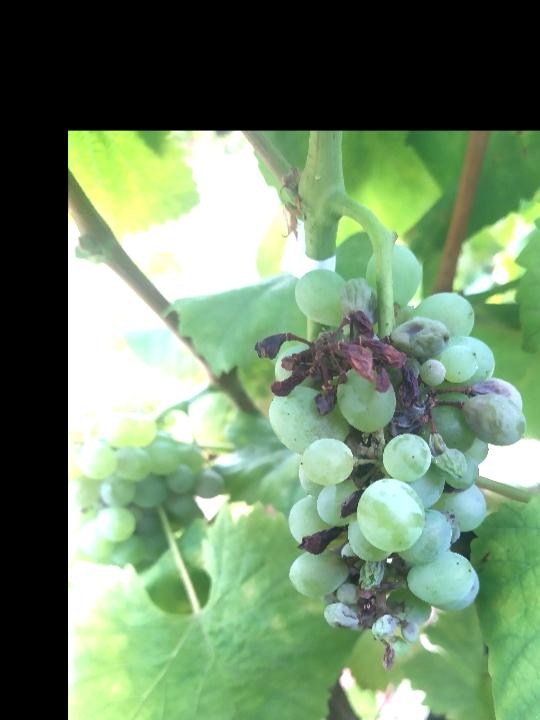grape: (255, 239, 529, 673)
